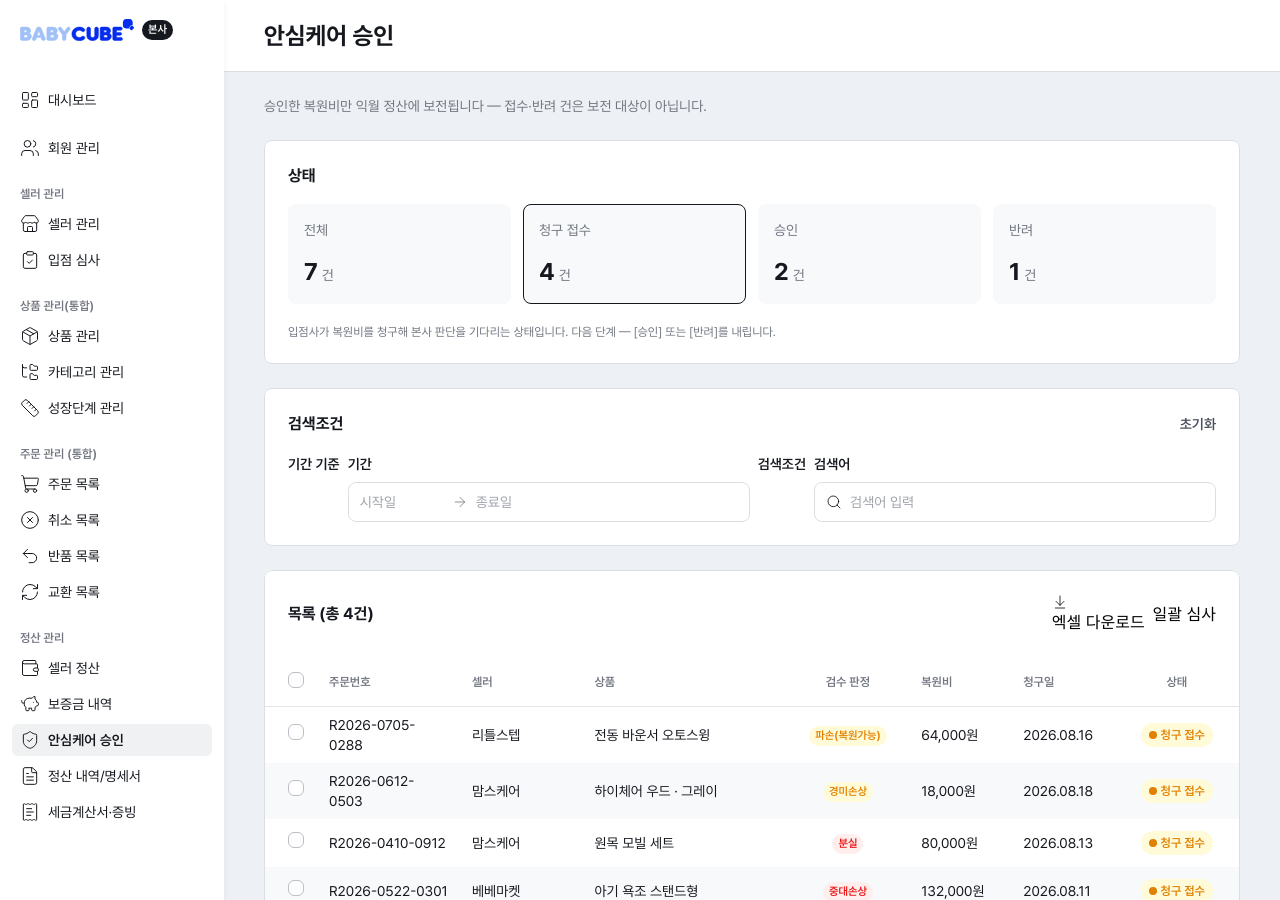
Test: CareClaimListPage (BabyCube S14 안심케어 승인) › 조건부 열 (원본이 상태에 따라 밀어 넣는 두 열) › 승인을 고르면 승인일 열만 붙는다
The image size is (1280, 900).
What coordinates should you click on to do the following:
click the button "승인 2 건"
I would click on:
 (870, 254)
Its box is [758,204,981,304].
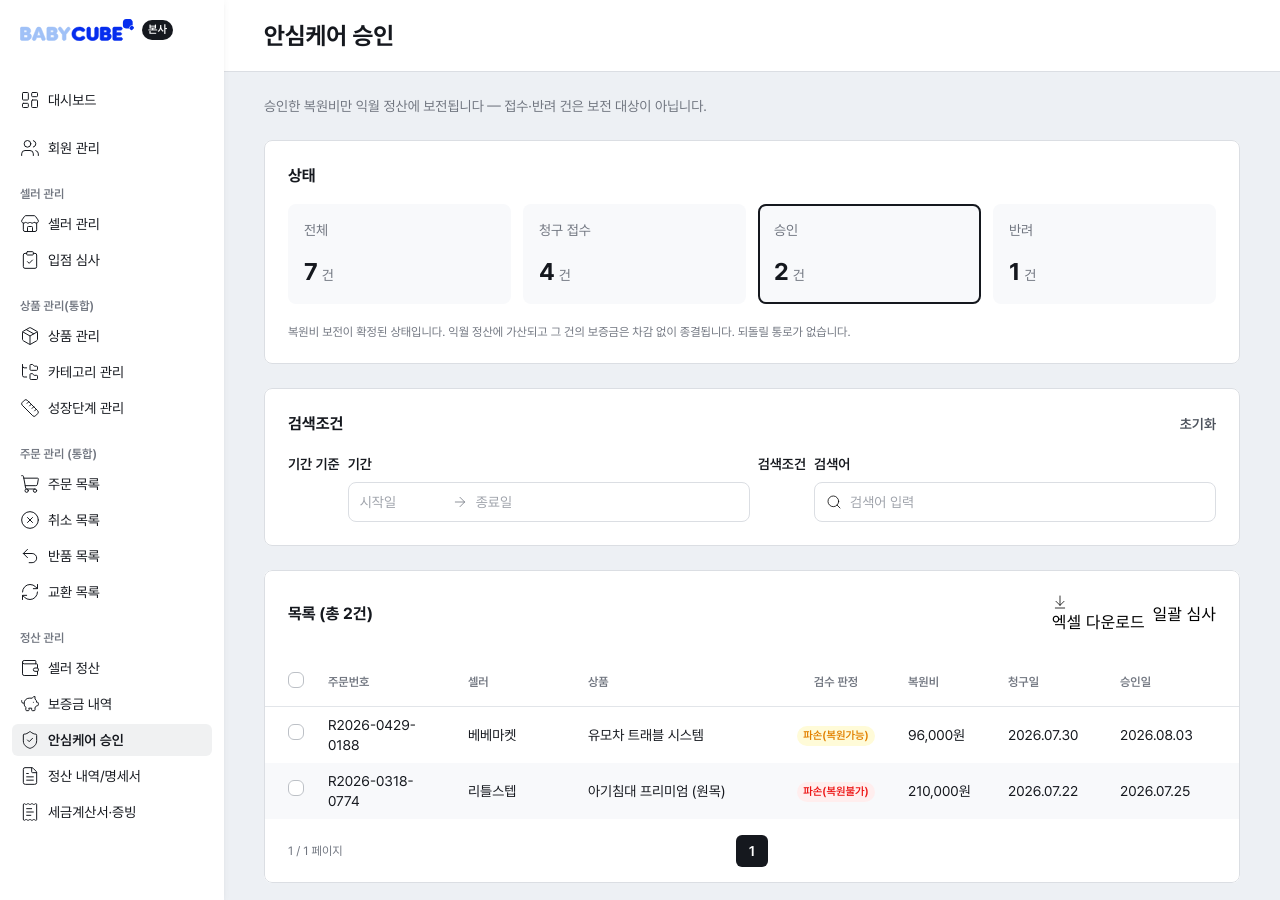
Check: the cell "2026.08.03" is shown, box [1108,706,1220,762]
